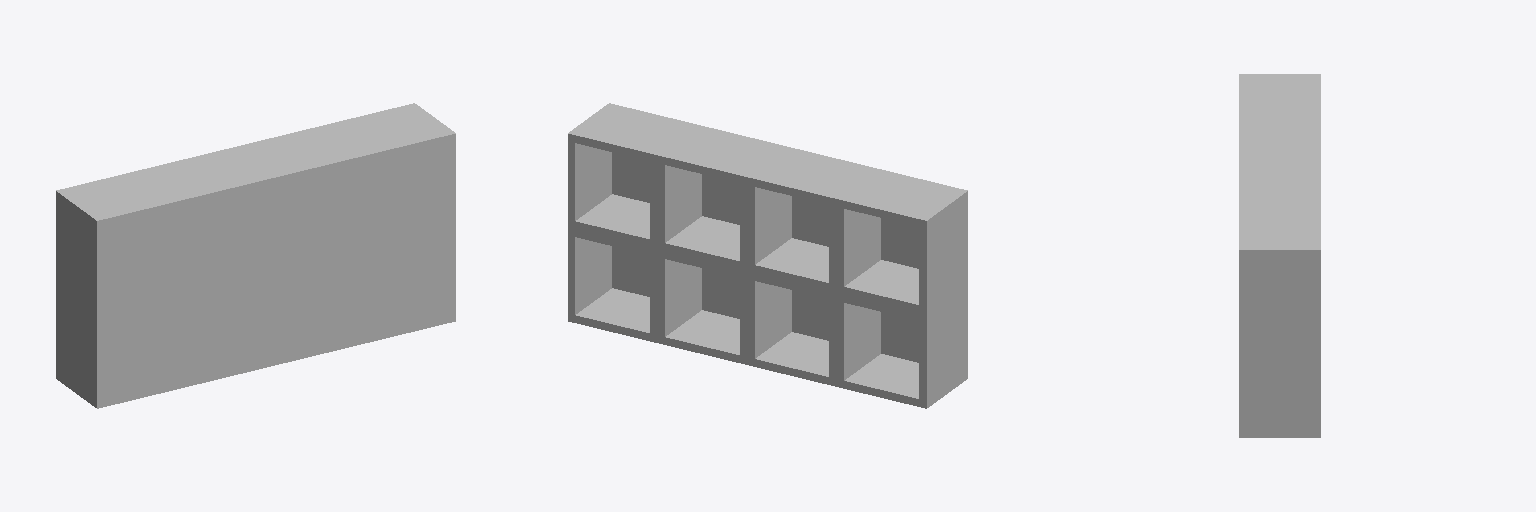
Rendered from shelf_1.obj.
3 views of the same model, side by side, from view 1: azimuth 30°, elevation 25°; view 2: azimuth 150°, elevation 25°; view 3: azimuth 270°, elevation 25° (orthographic).
Visible parts, largest first — view 1: shelf_1; view 2: shelf_1; view 3: shelf_1.
Boxes of the visible parts, x1,y1,x2,y2 form: shelf_1: [56, 103, 455, 408]; shelf_1: [568, 103, 967, 408]; shelf_1: [1239, 74, 1320, 437].
Bounding box in the file's own units: 6 × 3 × 1.2.